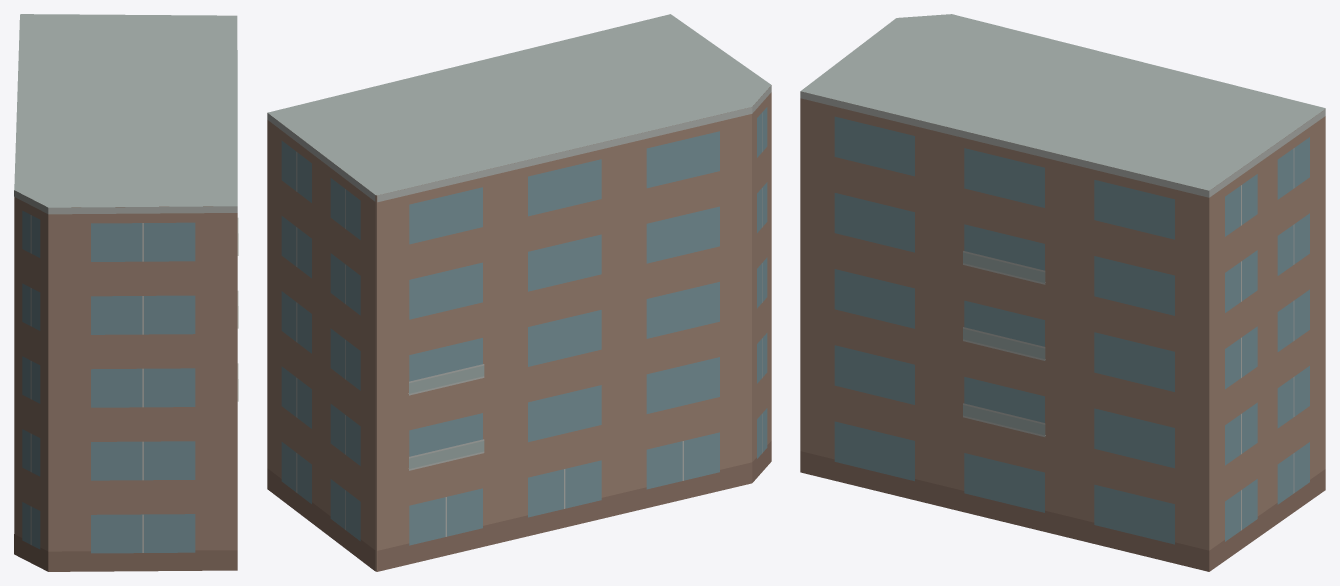
File: survey-upis-32673721.glb
The picture shows the model from 3 angles, left to right: view 1: azimuth 30°, elevation 25°; view 2: azimuth 150°, elevation 25°; view 3: azimuth 270°, elevation 25°; orthographic projection. The views are drawn at different scales.
Visible parts, largest first — view 1: survey-upis-32673721.tmp; view 2: survey-upis-32673721.tmp; view 3: survey-upis-32673721.tmp.
Boxes of the visible parts, box(x1,y1,x2,y2) form: survey-upis-32673721.tmp: box(14, 14, 238, 571); survey-upis-32673721.tmp: box(267, 14, 771, 571); survey-upis-32673721.tmp: box(800, 14, 1325, 571).
Bounding box in the file's own units: 13.19 × 13.25 × 16.56.
